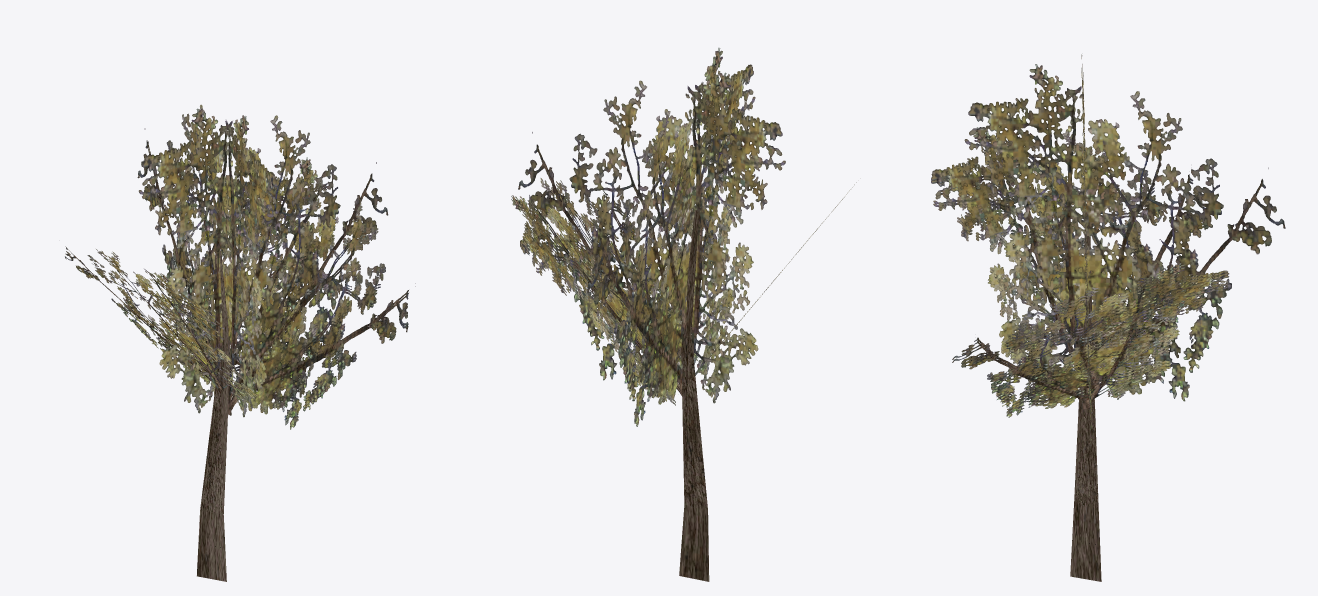
File: mtns_shrb_yellowleaf1_l1.fbx
3 renders of one model, left to right at view 1: azimuth 30°, elevation 25°; view 2: azimuth 150°, elevation 25°; view 3: azimuth 270°, elevation 25°, orthographic. The views are drawn at different scales.
Visible parts, largest first — view 1: mesh_node; view 2: mesh_node; view 3: mesh_node.
Part boxes in pixels (x1,y1,x2,y2): mesh_node: (65, 104, 415, 581); mesh_node: (511, 47, 856, 581); mesh_node: (931, 54, 1285, 581).
Bounding box in the file's own units: 1.12 × 1.49 × 1.01.
